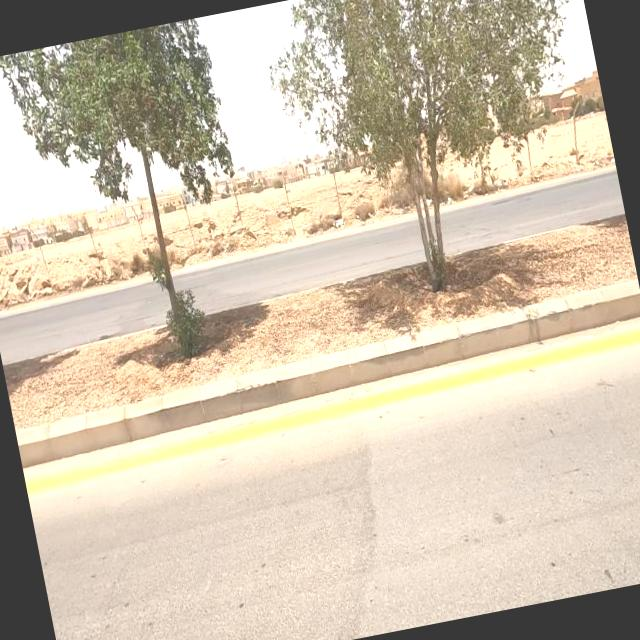debris: (398, 166, 458, 231), (310, 190, 368, 248), (430, 165, 478, 232)
